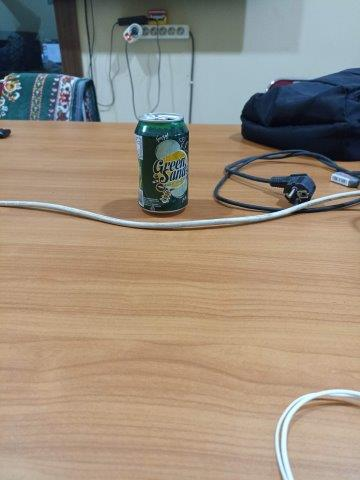kaleng: (134, 113, 190, 216)
